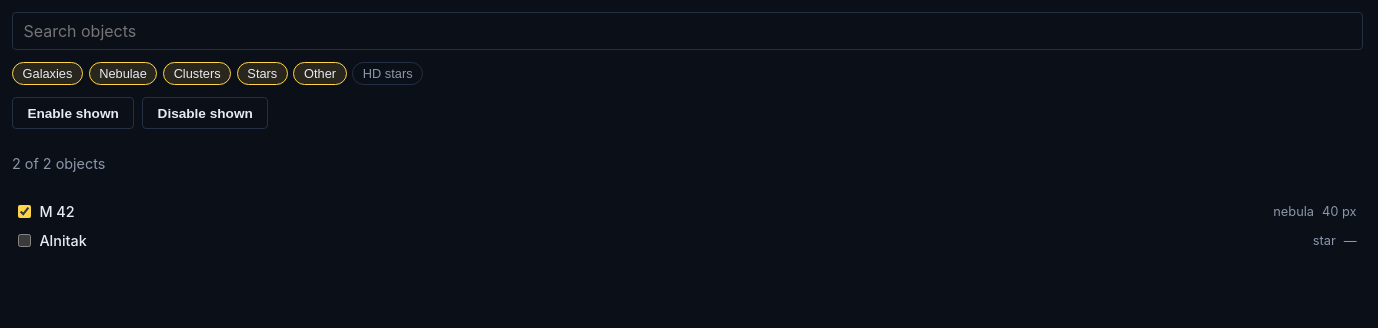
Test: ObjectsTab › a toggle that throws says so and changes nothing
Click the checkbox named "Show Alnitak": (25, 240) [18,234,31,246]
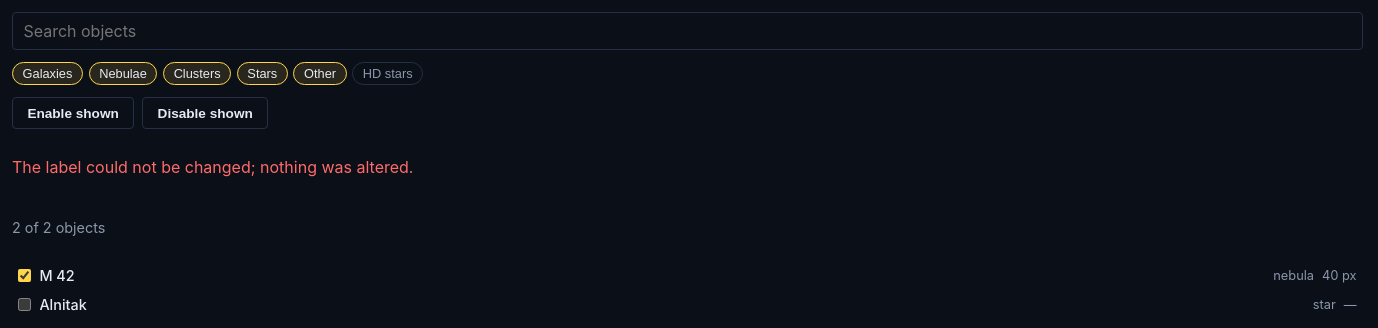
Expected: the text "The label could not be changed; nothing was altered." is shown, [12,157,414,177]
Click the checkbox named "Show M 42": (25, 276) [18,269,31,282]
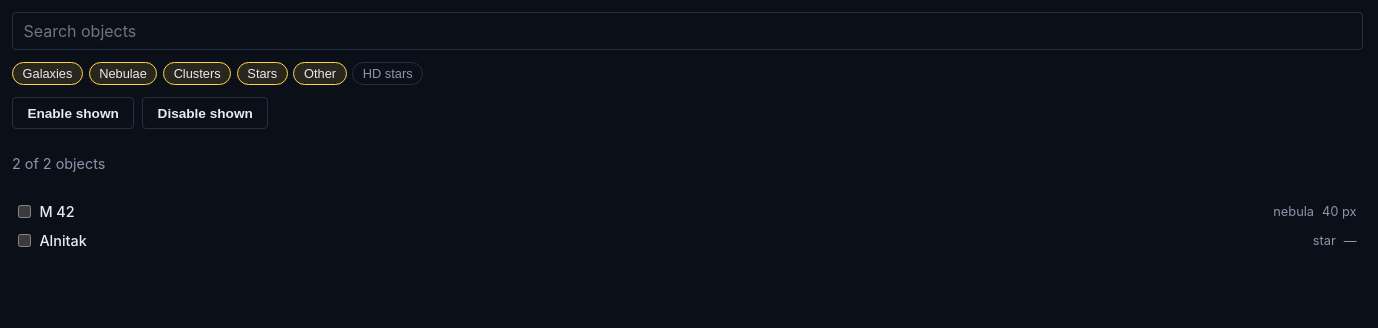
Expected: the text "The label could not be changed; nothing was altered." is gone
